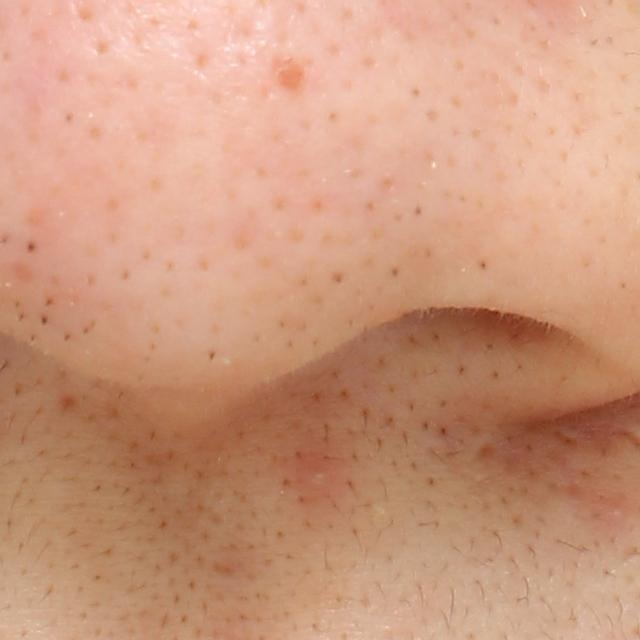pustule: (294, 451, 343, 501)
